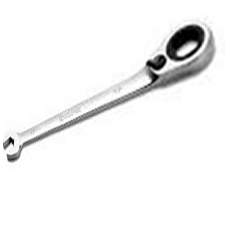Wrench: (5, 26, 219, 161)
